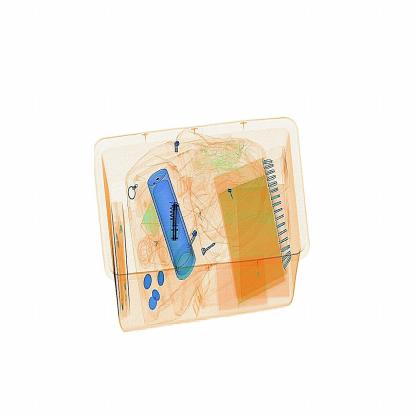scissors: (164, 190, 188, 251)
